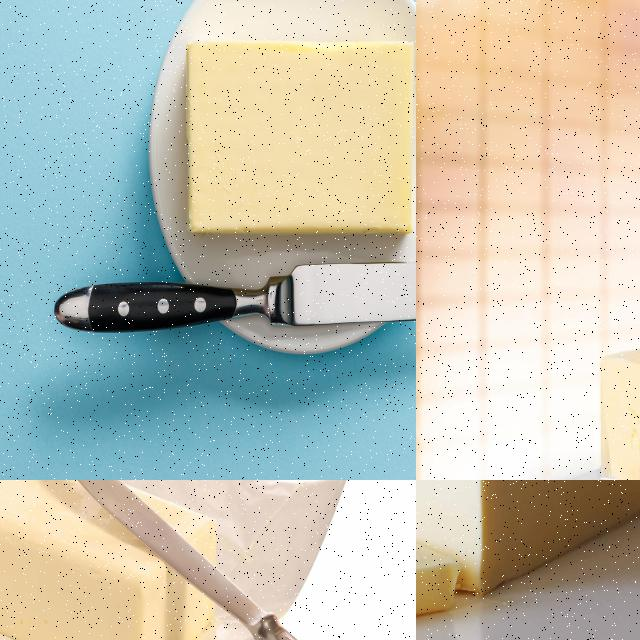butter: (182, 37, 415, 241), (0, 480, 223, 639), (416, 480, 639, 597), (416, 524, 459, 624)
